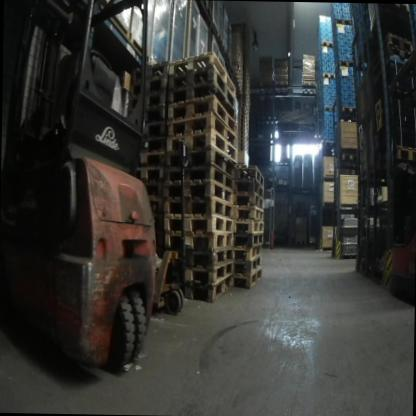pallet: (167, 63, 237, 109), (169, 51, 236, 97), (166, 127, 238, 164), (167, 79, 237, 110), (164, 161, 234, 190), (163, 179, 233, 208), (168, 147, 237, 175), (167, 96, 238, 122), (161, 196, 234, 220), (166, 112, 236, 137), (177, 273, 232, 303), (164, 212, 234, 233), (165, 232, 236, 252), (169, 262, 234, 283), (168, 246, 233, 266), (232, 163, 265, 187), (231, 252, 262, 274), (234, 189, 264, 210), (386, 31, 414, 53), (138, 61, 171, 79), (233, 178, 264, 197), (233, 268, 262, 288), (235, 204, 264, 222), (233, 230, 263, 247), (139, 151, 167, 168), (136, 165, 165, 181), (231, 243, 261, 258), (383, 43, 413, 58), (143, 93, 166, 112), (234, 218, 264, 232), (144, 135, 167, 153), (144, 76, 167, 93), (147, 180, 166, 199), (395, 144, 416, 161), (144, 122, 166, 135), (144, 108, 165, 119), (340, 151, 358, 161), (322, 70, 335, 83), (337, 59, 354, 67), (333, 18, 352, 25), (338, 106, 356, 112), (320, 39, 333, 47), (322, 139, 335, 146), (237, 112, 249, 119), (238, 137, 248, 145), (294, 240, 307, 246), (236, 121, 249, 127), (260, 81, 272, 87), (236, 146, 248, 152), (323, 105, 334, 111), (274, 81, 287, 86), (302, 88, 314, 93)
pallet_truck: (145, 134, 186, 316)
small_load_carrier: (337, 78, 350, 89), (340, 94, 350, 107), (333, 36, 343, 47), (334, 52, 348, 59), (410, 18, 416, 33), (332, 9, 342, 17), (344, 35, 354, 43), (334, 29, 342, 39), (345, 43, 354, 51), (345, 50, 354, 58), (410, 6, 416, 18), (349, 85, 355, 96), (336, 44, 346, 50), (322, 99, 332, 105), (321, 59, 328, 67), (346, 65, 353, 73), (322, 92, 329, 100), (323, 119, 331, 126), (344, 29, 353, 35), (322, 85, 329, 92), (343, 9, 349, 17), (319, 46, 327, 52), (328, 65, 336, 71), (330, 87, 338, 93), (340, 89, 349, 94), (327, 59, 334, 65), (330, 100, 337, 106), (322, 79, 328, 86), (323, 114, 330, 120), (349, 78, 355, 84), (321, 55, 328, 60), (324, 126, 331, 131), (321, 66, 329, 70), (322, 110, 330, 114), (328, 50, 334, 55), (328, 54, 334, 59), (349, 96, 355, 101), (350, 101, 355, 107), (330, 81, 335, 87), (323, 131, 329, 136), (330, 118, 336, 123), (414, 33, 416, 46), (349, 73, 354, 78), (330, 95, 335, 100), (344, 25, 352, 28), (328, 46, 334, 50), (331, 127, 335, 133), (329, 112, 336, 115), (330, 123, 335, 127), (331, 133, 334, 138)
